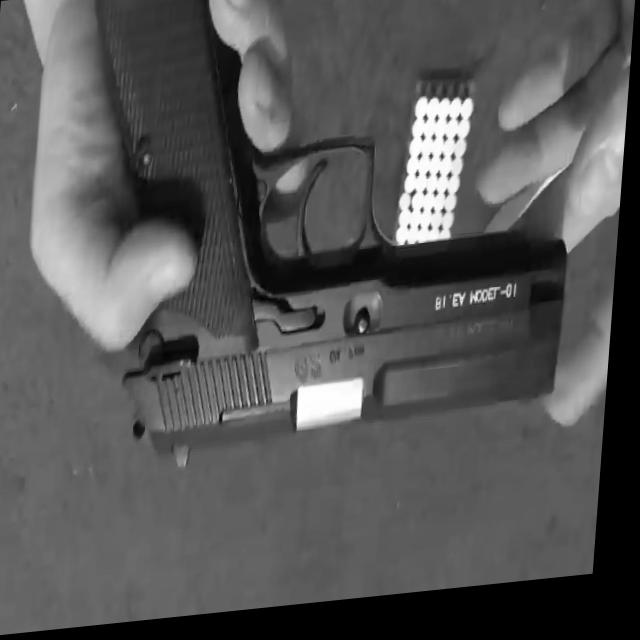handgun: (43, 0, 596, 462)
